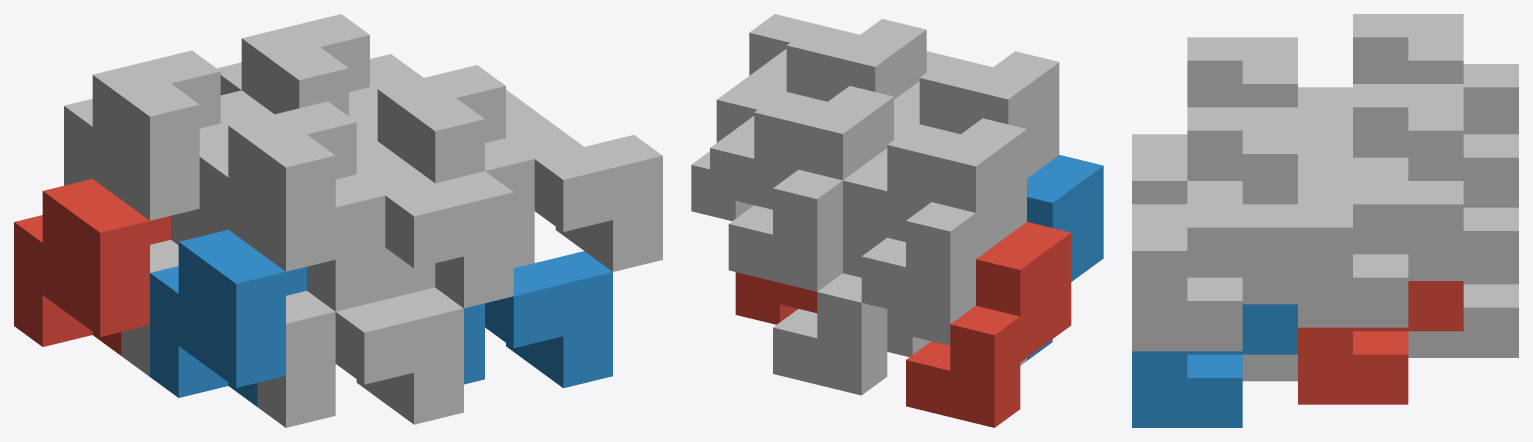
File: tiling.obj
3 views of the same model, side by side, from view 1: azimuth 30°, elevation 25°; view 2: azimuth 150°, elevation 25°; view 3: azimuth 270°, elevation 25° (orthographic). The views are drawn at different scales.
Visible parts, largest first — view 1: copy_2_domain_4, copy_2_domain_2, copy_1_domain_2, copy_1_domain_1, copy_2_domain_8, copy_1_domain_4, copy_1_domain_3, copy_2_domain_6, copy_1_domain_8, copy_1_domain_7, copy_2_domain_3, copy_2_domain_7 (+2 smaller); view 2: copy_1_domain_3, copy_1_domain_7, copy_1_domain_1, copy_1_domain_5, copy_1_domain_4, copy_1_domain_8, copy_2_domain_7, copy_1_domain_2, copy_2_domain_3, copy_2_domain_8, copy_2_domain_5, copy_2_domain_1 (+1 smaller); view 3: copy_2_domain_8, copy_2_domain_7, copy_1_domain_7, copy_1_domain_8, copy_1_domain_3, copy_2_domain_5, copy_2_domain_6, copy_1_domain_4, copy_1_domain_5, copy_2_domain_4, copy_2_domain_3, copy_1_domain_6.
Part boxes in pixels (box(x1,y1,x2,y2)): copy_2_domain_4: box(307, 141, 513, 311); copy_2_domain_2: box(257, 287, 463, 427); copy_1_domain_2: box(150, 230, 306, 406); copy_1_domain_1: box(14, 179, 170, 355); copy_2_domain_8: box(485, 105, 662, 271); copy_1_domain_4: box(199, 101, 356, 271); copy_1_domain_3: box(64, 50, 220, 220); copy_2_domain_6: box(464, 251, 612, 388); copy_1_domain_8: box(353, 65, 505, 183); copy_1_domain_7: box(217, 14, 369, 116); copy_2_domain_3: box(171, 90, 377, 244); copy_2_domain_7: box(349, 54, 526, 119); copy_1_domain_3: box(861, 118, 1026, 324); copy_1_domain_7: box(728, 86, 893, 291); copy_1_domain_1: box(906, 222, 1071, 427); copy_1_domain_5: box(773, 227, 887, 395); copy_1_domain_4: box(919, 51, 1059, 178); copy_1_domain_8: box(786, 19, 926, 101); copy_2_domain_7: box(691, 81, 827, 220); copy_1_domain_2: box(1027, 155, 1103, 360); copy_2_domain_3: box(843, 118, 960, 241); copy_2_domain_8: box(743, 14, 859, 91); copy_2_domain_5: box(735, 272, 817, 324); copy_2_domain_1: box(887, 309, 1026, 365); copy_2_domain_8: box(1132, 181, 1297, 351); copy_2_domain_7: box(1298, 157, 1463, 327); copy_1_domain_7: box(1353, 84, 1518, 280); copy_1_domain_8: box(1187, 107, 1352, 304); copy_1_domain_3: box(1353, 14, 1518, 134); copy_2_domain_5: box(1298, 281, 1463, 404); copy_2_domain_6: box(1132, 304, 1297, 427); copy_1_domain_4: box(1187, 37, 1352, 110); copy_1_domain_5: box(1408, 281, 1518, 357); copy_2_domain_4: box(1132, 134, 1187, 204); copy_2_domain_3: box(1298, 110, 1352, 157); copy_1_domain_6: box(1242, 354, 1297, 381).
Size of the model in its own units: 9 by 5 by 7.
